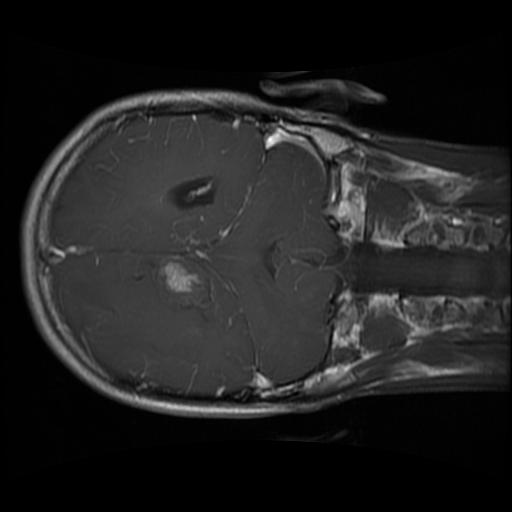glioma: (144, 234, 217, 325)
